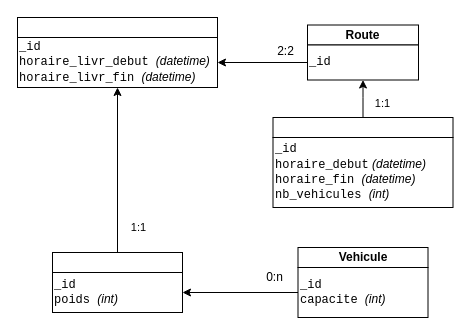
This 471x335 diagram has some shape labels left out. The centre of each missing label's shape, as x and y in pixels:
Marchandise: the point at 117,262
Trafic: the point at 362,127
Ville: the point at 117,27
